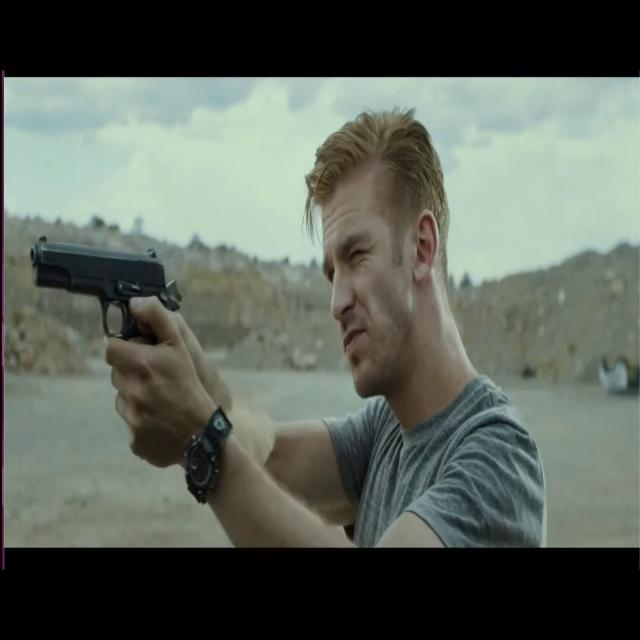weapons: (20, 209, 190, 374)
